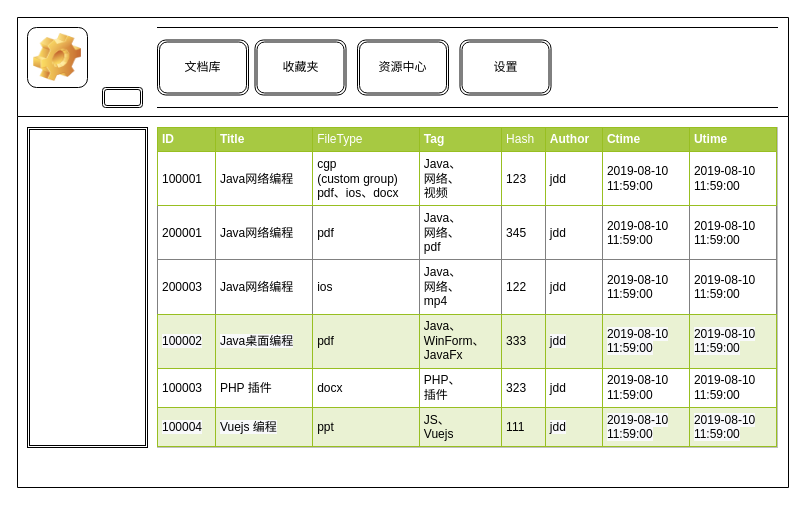
Image size: 806x505. Some labels were removed from this diagram. The shapes that lost their labels are listed below. From the top down, each one's centre as x and y in pixels, then its label:
the point at 57,57: logo
the point at 122,97: 折叠
